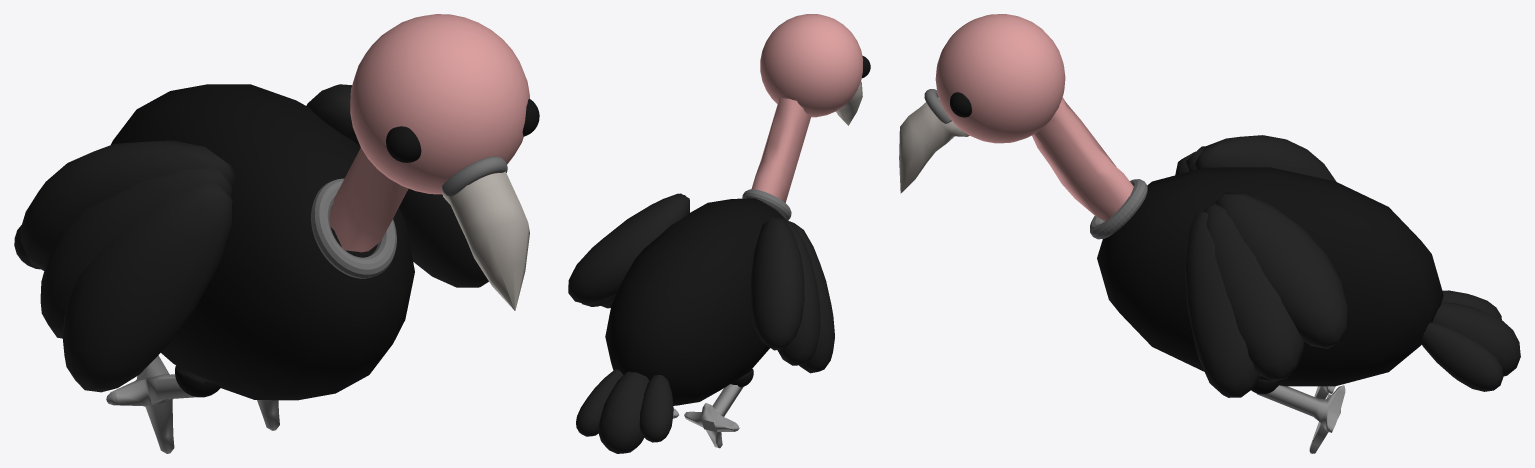
The model's file is Zopilote2.glb.
3 renders of one model, left to right at view 1: azimuth 30°, elevation 25°; view 2: azimuth 150°, elevation 25°; view 3: azimuth 270°, elevation 25°, orthographic. The views are drawn at different scales.
Visible parts, largest first — view 1: Cube, Sphere, Cube.009, Cube.007, Cube.008, Cylinder.001, Cube.006, Cylinder, Torus, Cube.011, Cube.001, Torus.001 (+3 smaller); view 2: Cube, Sphere, Cube.007, Cube.001, Cylinder, Cube.002, Cube.008, Cube.009, Cube.004, Cube.011, Cube.005, Torus (+1 smaller); view 3: Cube, Sphere, Cube.001, Cube.003, Cube.006, Cylinder, Cube.007, Cube.005, Cube.002, Cylinder.001, Cube.010, Torus (+1 smaller).
Part boxes in pixels (<box>): Cube: <box>111,84,414,400</box>; Sphere: <box>350,14,529,194</box>; Cube.009: <box>62,181,232,392</box>; Cube.007: <box>20,140,235,270</box>; Cube.008: <box>40,167,232,338</box>; Cylinder.001: <box>441,171,529,310</box>; Cube.006: <box>399,189,488,287</box>; Cylinder: <box>329,148,408,252</box>; Torus: <box>311,178,396,278</box>; Cube.011: <box>106,355,197,453</box>; Cube.001: <box>306,84,353,138</box>; Torus.001: <box>441,156,507,196</box>; Cube: <box>605,198,784,405</box>; Sphere: <box>760,14,862,117</box>; Cube.007: <box>750,215,804,350</box>; Cube.001: <box>568,193,689,304</box>; Cylinder: <box>751,97,810,202</box>; Cube.002: <box>598,371,649,453</box>; Cube.008: <box>777,217,820,365</box>; Cube.009: <box>790,221,834,373</box>; Cube.004: <box>639,375,673,442</box>; Cube.011: <box>684,384,743,448</box>; Cube.005: <box>576,369,623,436</box>; Torus: <box>742,189,791,220</box>; Cube: <box>1097,167,1443,386</box>; Sphere: <box>935,14,1065,143</box>; Cube.001: <box>1215,192,1347,348</box>; Cube.003: <box>1204,203,1304,381</box>; Cube.006: <box>1185,211,1260,397</box>; Cylinder: <box>1032,97,1133,221</box>; Cube.007: <box>1194,135,1336,181</box>; Cube.005: <box>1421,322,1503,391</box>; Cube.002: <box>1432,302,1520,376</box>; Cylinder.001: <box>899,97,969,193</box>; Cube.010: <box>1257,385,1345,453</box>; Torus: <box>1090,179,1147,239</box>.
Size of the model in its own units: 1.05 by 1.38 by 1.87.
